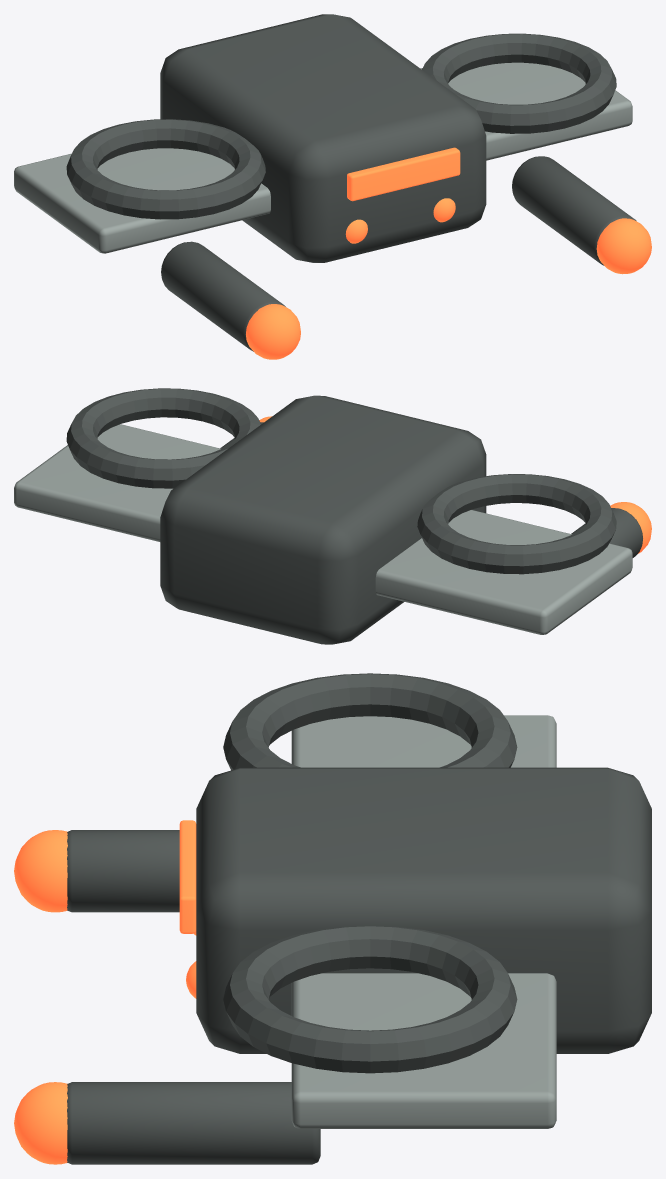
The model's file is card_drone.glb.
3 views of the same model, one above another, from view 1: azimuth 30°, elevation 25°; view 2: azimuth 150°, elevation 25°; view 3: azimuth 270°, elevation 25° (orthographic). The views are drawn at different scales.
Visible parts, largest first — view 1: card_drone; view 2: card_drone; view 3: card_drone.
Boxes of the visible parts, <box> form: card_drone: <box>14,14,651,359</box>; card_drone: <box>14,388,651,644</box>; card_drone: <box>14,673,651,1164</box>.
Size of the model in its own units: 2.19 by 0.57 by 1.54.
